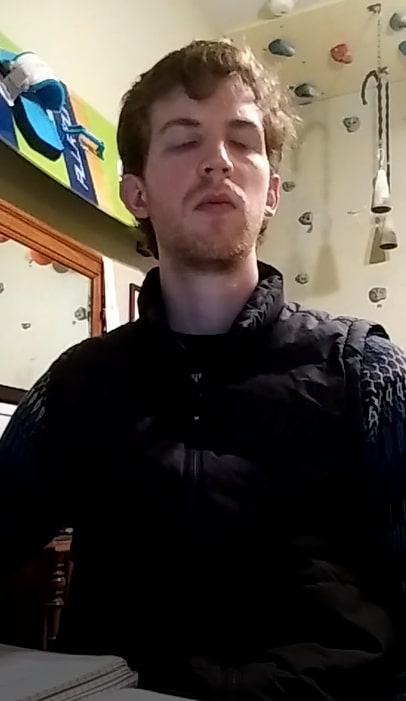Sleeping: (153, 117, 267, 163)
